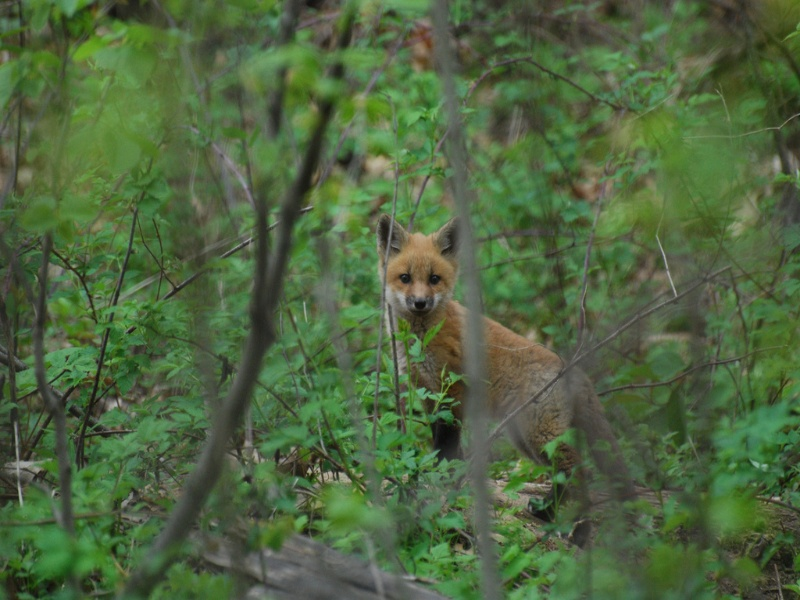fox: (373, 208, 644, 519)
